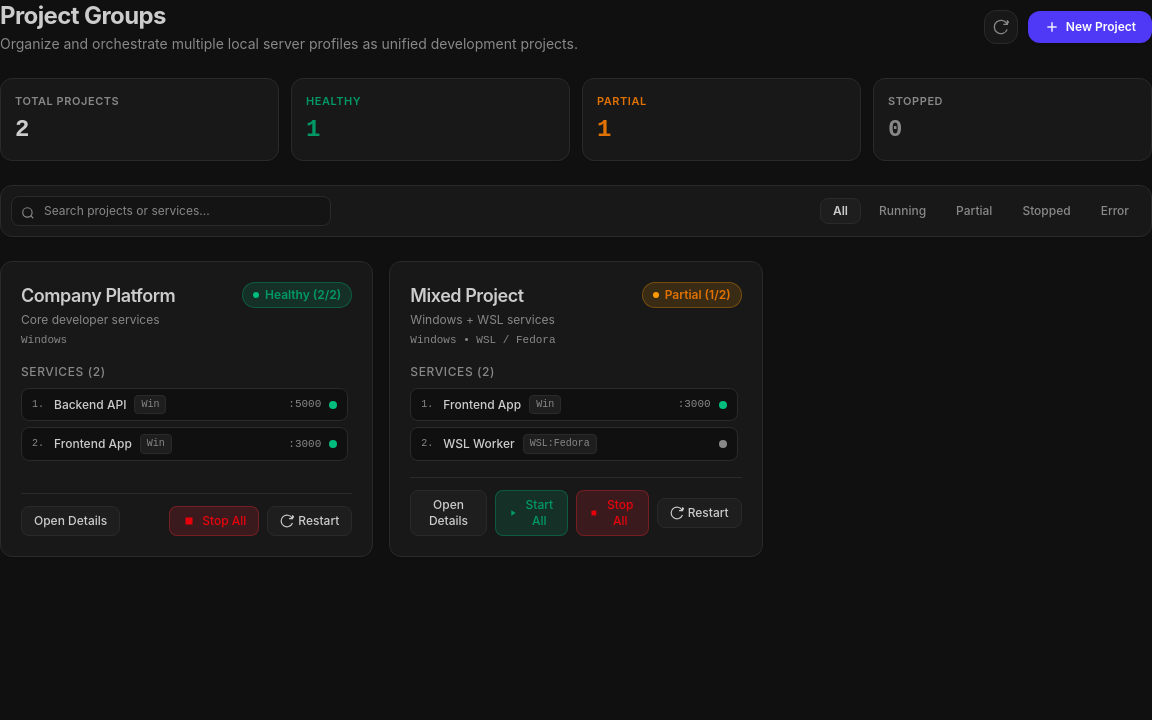
Scenario: Projects Page & Orchestration (Milestone 13) › executes start project and shows operation progress modal
Check: the heading "Company Platform" is shown, box [21,282,175,310]
Check: the heading "Mixed Project" is shown, box [410,284,524,306]
Click Start All on Mixed Project
Step 1. Click the button "Start All" → (531, 513), box [495,490,568,536]
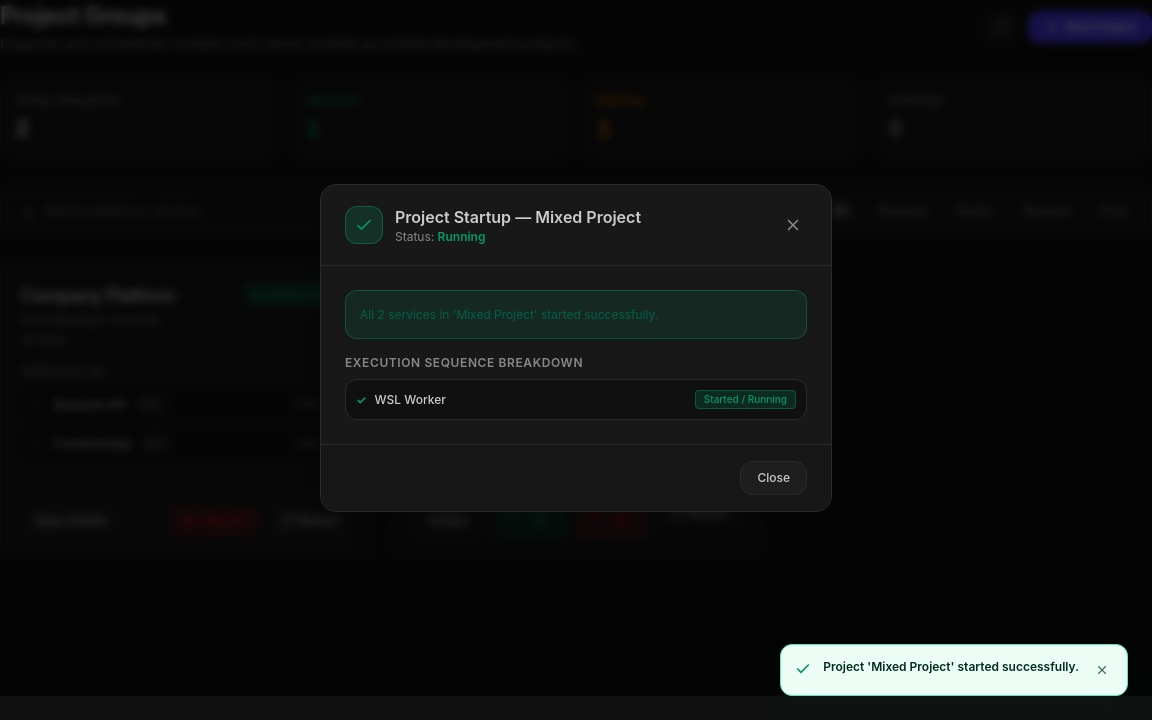
Check: the heading "Execution Sequence Breakdown" is shown, box [345,355,583,370]
Check: the text "All 2 services in 'Mixed Project' started successfully." is shown, box [345,290,807,339]
